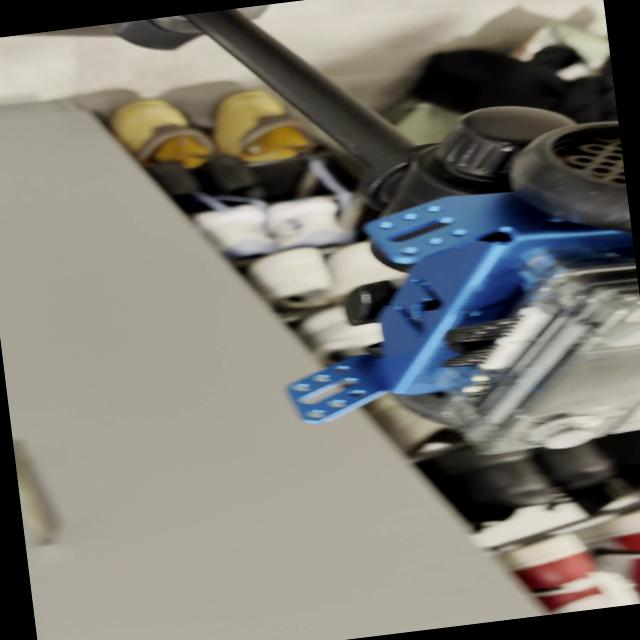mbot-detection: (251, 113, 640, 486)
